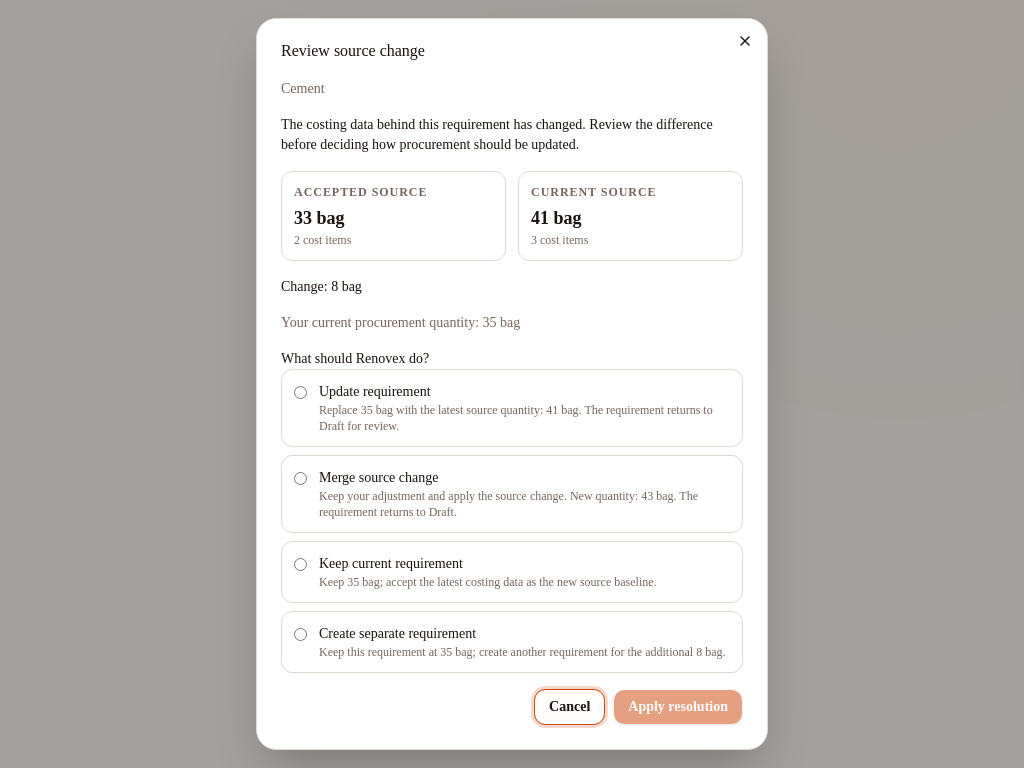
Test case: ResolveDiscrepancyDialog › maps a field-scoped error via applyFieldErrors before falling back to the workflow translator
This screenshot has width=1024, height=768.
Click the radio button labelled "Keep current requirement": click(300, 564) [294,558,307,571]
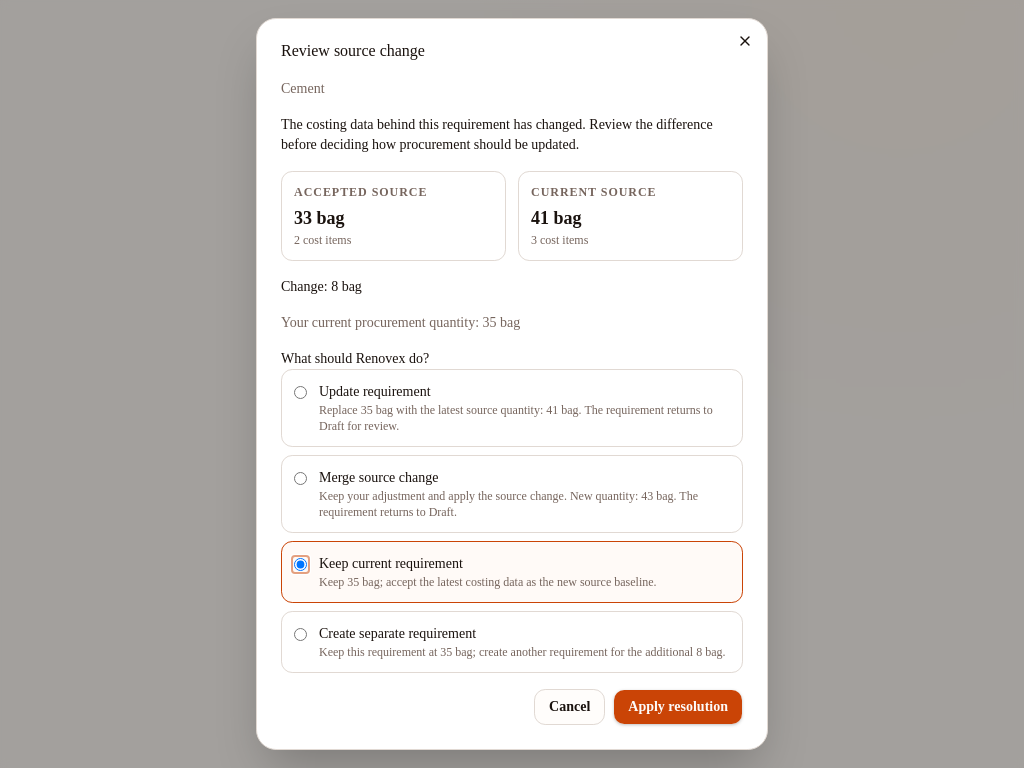
Click the button "Apply resolution": click(678, 707) [613,689,743,725]
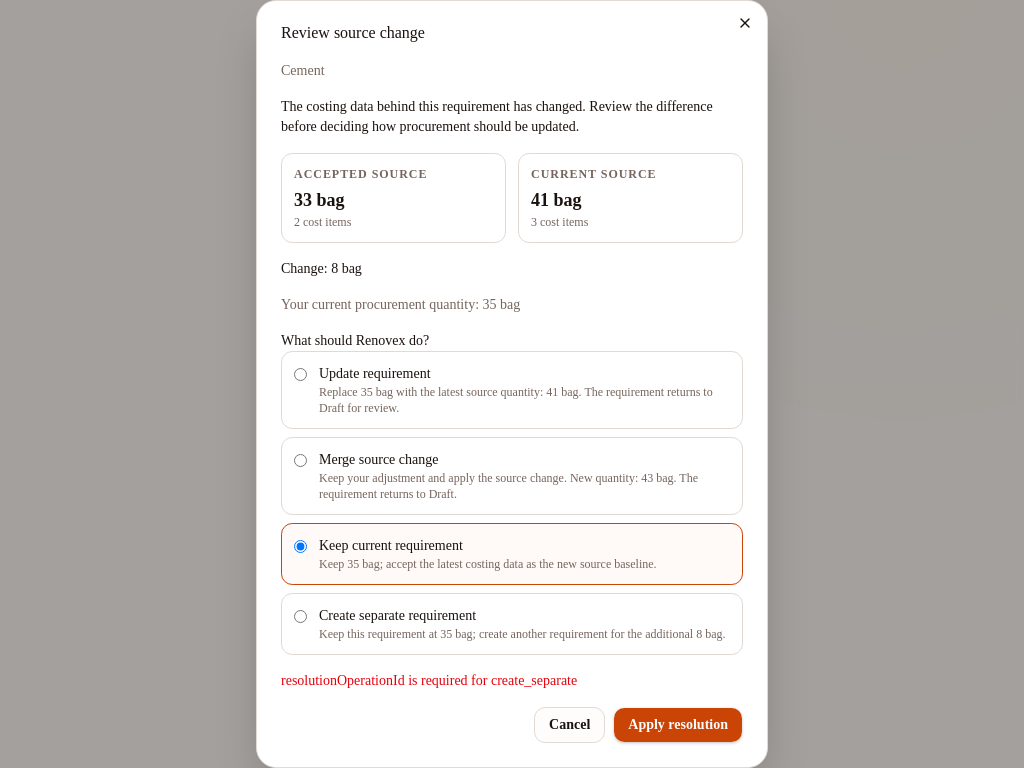
Expected: the text "resolutionOperationId is required for create_separate" is shown, [281,673,577,688]
